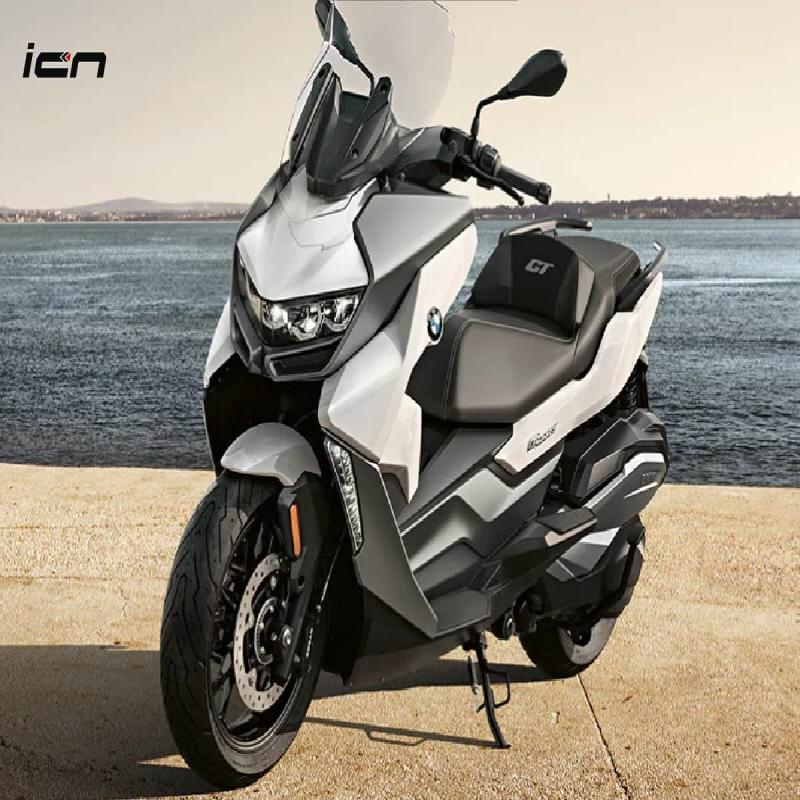bike: (141, 8, 693, 789)
